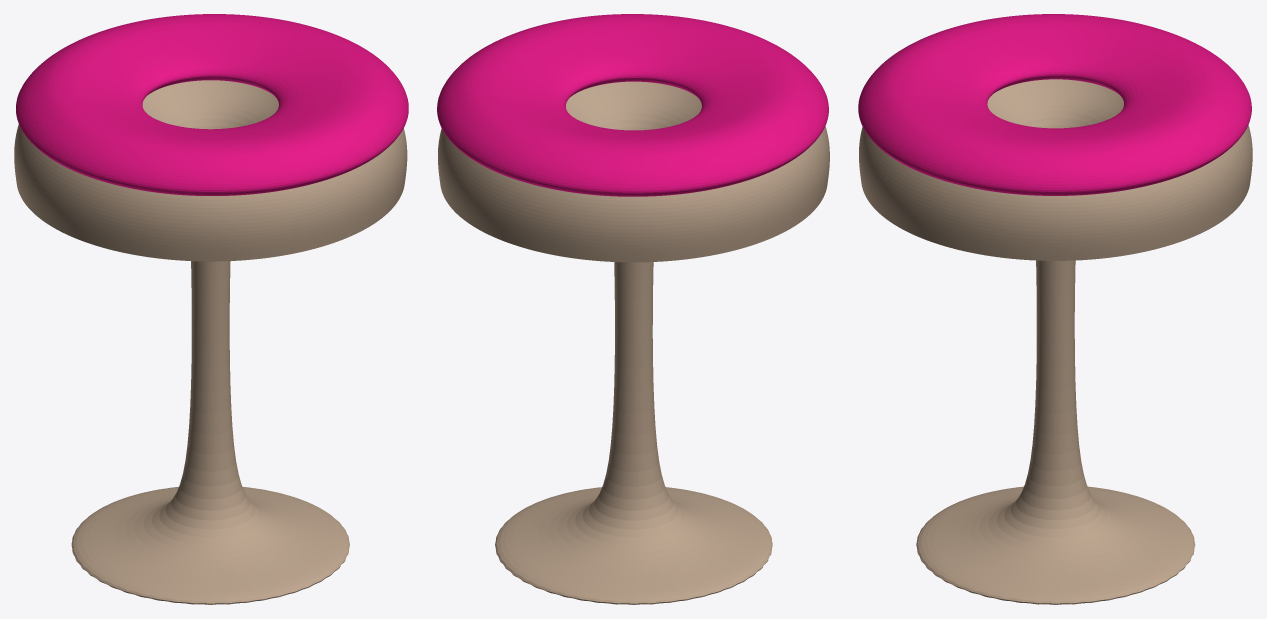
Rendered from lamp.fbx.
The picture shows the model from 3 angles, left to right: view 1: azimuth 30°, elevation 25°; view 2: azimuth 150°, elevation 25°; view 3: azimuth 270°, elevation 25°; orthographic projection.
Visible parts, largest first — view 1: Torus.001, Torus.002; view 2: Torus.001, Torus.002; view 3: Torus.001, Torus.002.
Part boxes in pixels (box(x1,y1,x2,y2)): Torus.001: box(14, 80, 407, 604); Torus.002: box(16, 14, 408, 195); Torus.001: box(438, 81, 829, 604); Torus.002: box(437, 14, 828, 196); Torus.001: box(859, 79, 1252, 604); Torus.002: box(858, 14, 1251, 195).
Size of the model in its own units: 148 by 195 by 149.
